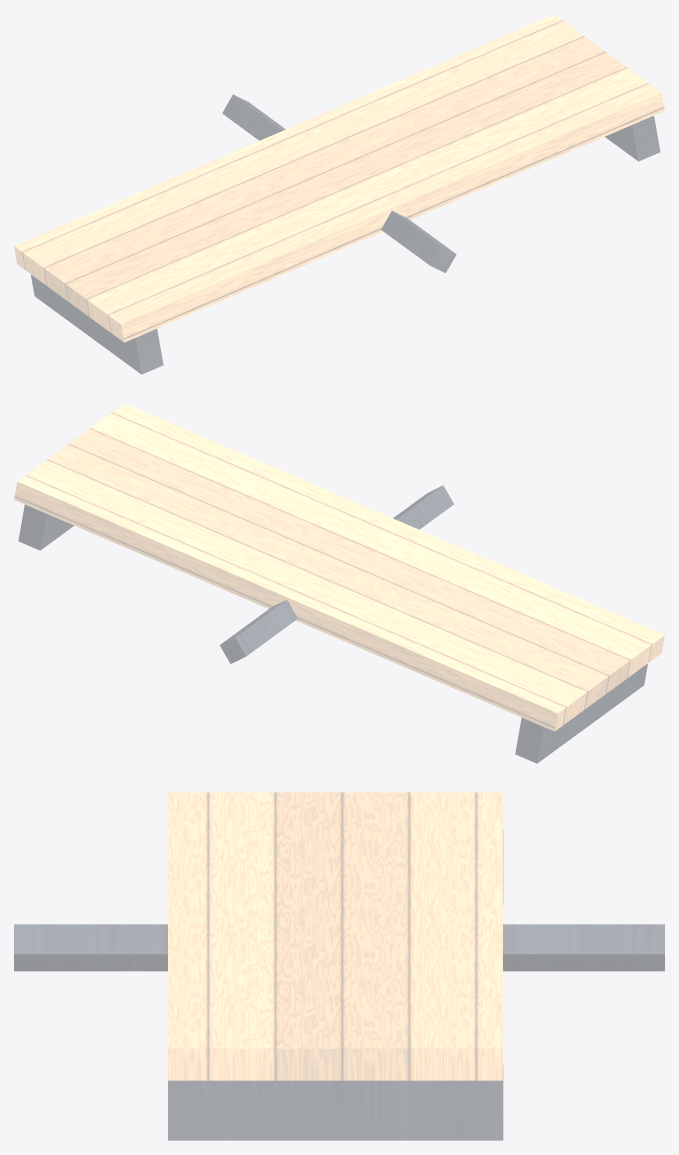
File: level.gltf
The picture shows the model from 3 angles, top to bottom: view 1: azimuth 30°, elevation 25°; view 2: azimuth 150°, elevation 25°; view 3: azimuth 270°, elevation 25°; orthographic projection. The views are drawn at different scales.
Parts seen in each view (by area): view 1: P_Modul_30_Wippe; view 2: P_Modul_30_Wippe; view 3: P_Modul_30_Wippe.
Part boxes in pixels (x1=…): P_Modul_30_Wippe: x1=14, y1=14, x2=664, y2=374; P_Modul_30_Wippe: x1=14, y1=403, x2=664, y2=763; P_Modul_30_Wippe: x1=14, y1=792, x2=664, y2=1140.
Bounding box in the file's own units: 14.66 × 4 × 9.71.
2 materials, 2 textured.
